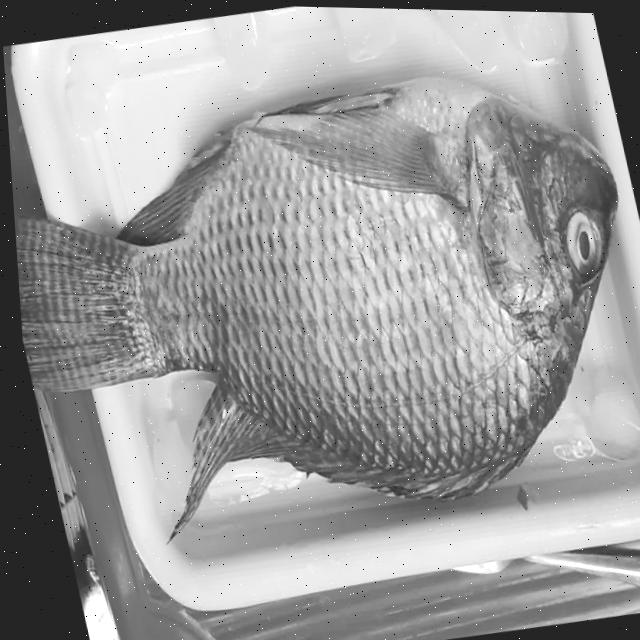Fresh: (177, 74, 585, 518), (553, 205, 613, 289)
